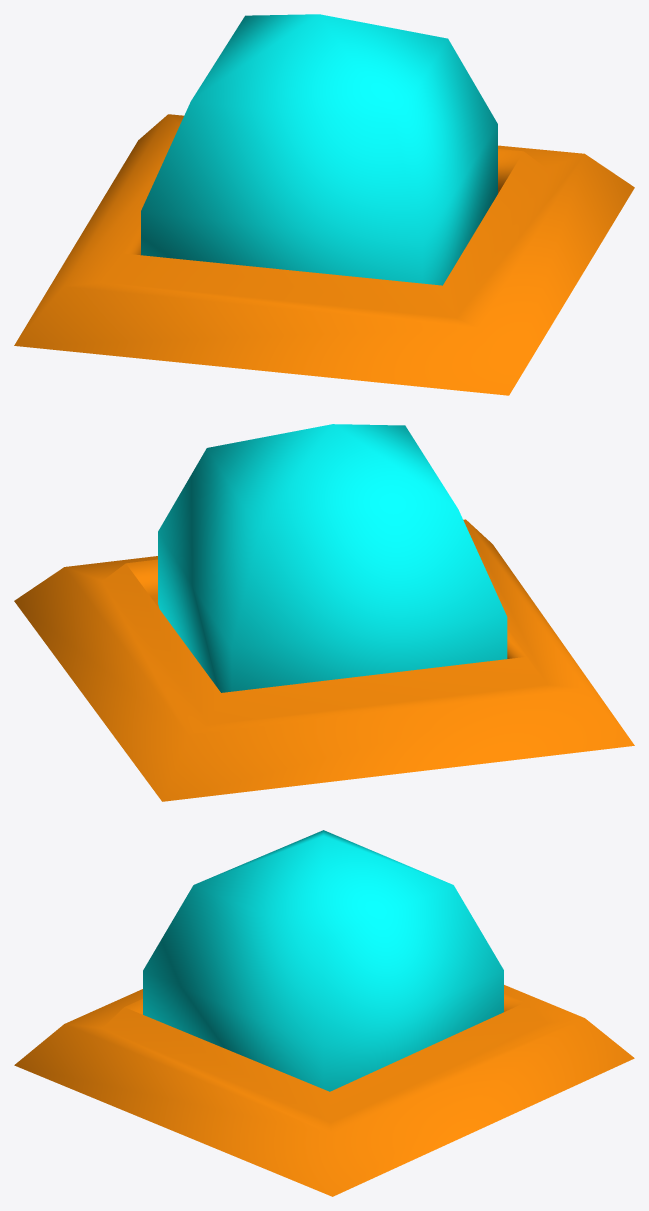
The model's file is Lago_Huevo LP 3.fbx.
3 views of the same model, one above another, from view 1: azimuth 30°, elevation 25°; view 2: azimuth 150°, elevation 25°; view 3: azimuth 270°, elevation 25° (orthographic). The views are drawn at different scales.
Parts seen in each view (by area): view 1: Helado LP 003; view 2: Helado LP 003; view 3: Helado LP 003.
Part boxes in pixels (<box>): Helado LP 003: <box>14,14,634,395</box>; Helado LP 003: <box>14,424,634,801</box>; Helado LP 003: <box>14,830,634,1196</box>.
Bounding box in the file's own units: 255 × 103 × 249.
